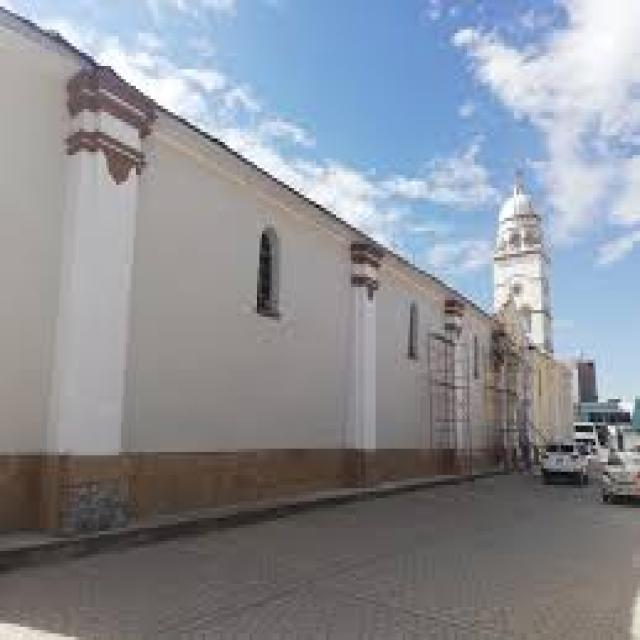CAMPANARIO: (483, 255, 558, 354)
CUPULA: (498, 184, 547, 251)
TORRES: (490, 164, 558, 474)
colonial-architecture-: (0, 0, 573, 488)
